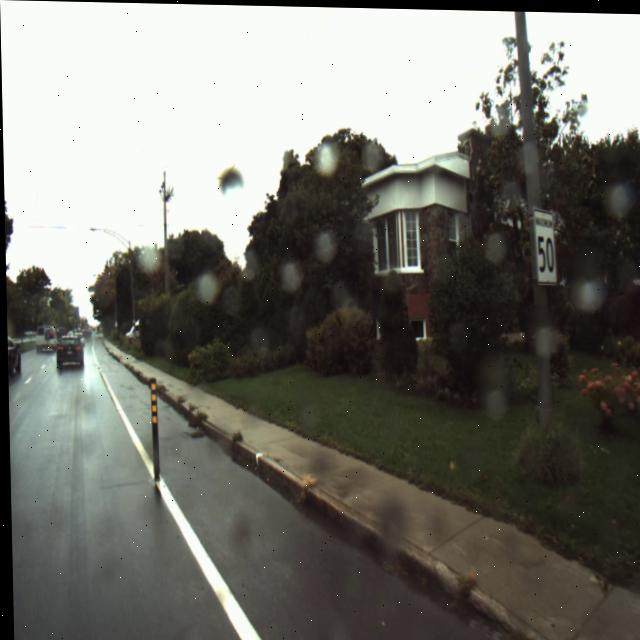car: (54, 335, 82, 374), (6, 333, 20, 382), (33, 324, 55, 354)
